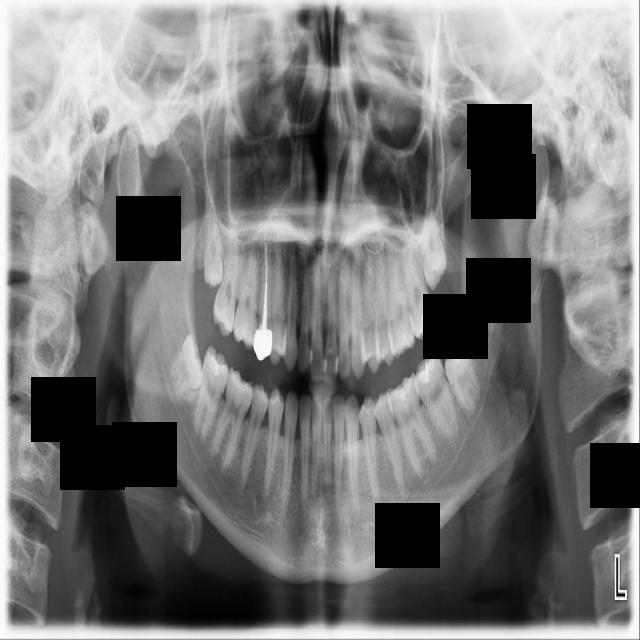3M ESPE Implant: (201, 193, 224, 290)
52: (403, 348, 453, 404), (404, 289, 439, 341), (202, 345, 230, 394), (253, 329, 272, 362)
73: (257, 240, 272, 331), (584, 569, 592, 579)
BioHorizons Implant: (399, 243, 438, 340)
BioLife Implant: (418, 214, 450, 291)
Biomet 3i Implant: (437, 337, 486, 416), (163, 332, 207, 398)
Blue Sky Bio Implant: (406, 347, 462, 444), (193, 344, 233, 443)
Caries: (210, 231, 241, 338)
